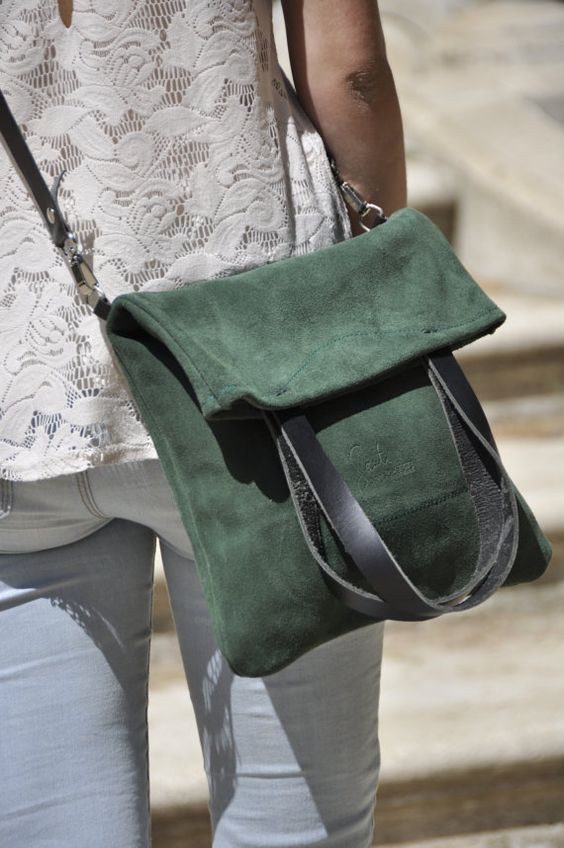cuero: (260, 352, 520, 619)
